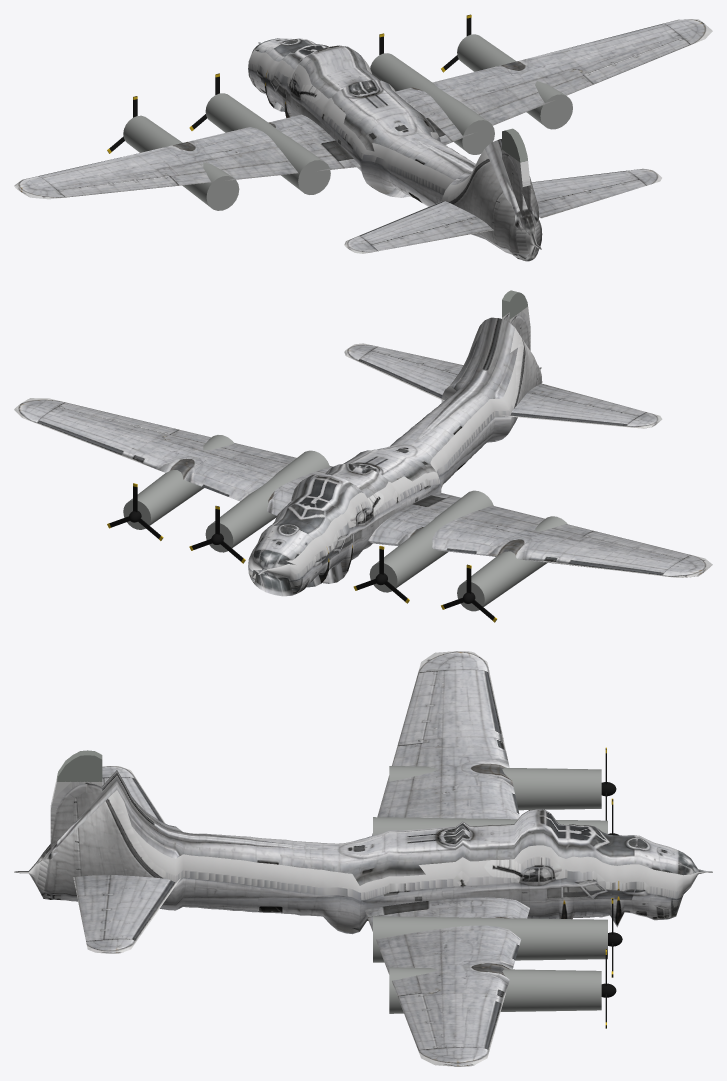
File: b17g_winding_fix.glb
3 views of the same model, one above another, from view 1: azimuth 30°, elevation 25°; view 2: azimuth 150°, elevation 25°; view 3: azimuth 270°, elevation 25° (orthographic). The views are drawn at different scales.
Visible parts, largest first — view 1: Fuselage, WingR, WingL, TailplaneL, _MeshInstance3D_1011, _MeshInstance3D_1016, TailplaneR, Nacelle, _MeshInstance3D_1006, Fin; view 2: Fuselage, WingL, WingR, TailplaneL, _MeshInstance3D_1016, _MeshInstance3D_1011, TailplaneR, Nacelle, _MeshInstance3D_1006, Fin; view 3: Fuselage, WingR, WingL, _MeshInstance3D_1016, TailplaneR, _MeshInstance3D_1006, Nacelle, Fin, _MeshInstance3D_1011, TailplaneL.
Part boxes in pixels (bbox=[...]): Fuselage: bbox=[248, 38, 542, 261]; WingR: bbox=[396, 19, 712, 144]; WingL: bbox=[14, 114, 360, 199]; TailplaneL: bbox=[344, 201, 493, 253]; _MeshInstance3D_1011: bbox=[205, 93, 330, 194]; _MeshInstance3D_1016: bbox=[370, 53, 494, 154]; TailplaneR: bbox=[531, 168, 661, 218]; Nacelle: bbox=[123, 115, 239, 210]; _MeshInstance3D_1006: bbox=[457, 34, 572, 129]; Fin: bbox=[502, 128, 530, 217]; Fuselage: bbox=[248, 317, 542, 596]; WingL: bbox=[368, 492, 712, 577]; WingR: bbox=[14, 398, 332, 515]; TailplaneL: bbox=[501, 383, 662, 428]; _MeshInstance3D_1016: bbox=[205, 450, 329, 552]; _MeshInstance3D_1011: bbox=[369, 490, 493, 592]; TailplaneR: bbox=[344, 343, 463, 400]; Nacelle: bbox=[457, 516, 567, 611]; _MeshInstance3D_1006: bbox=[123, 435, 234, 529]; Fin: bbox=[502, 290, 530, 350]; Fuselage: bbox=[14, 770, 712, 934]; WingR: bbox=[364, 897, 529, 1066]; WingL: bbox=[372, 651, 519, 835]; _MeshInstance3D_1016: bbox=[373, 916, 607, 962]; TailplaneR: bbox=[73, 875, 180, 953]; _MeshInstance3D_1006: bbox=[389, 967, 601, 1013]; Nacelle: bbox=[389, 766, 601, 810]; Fin: bbox=[50, 750, 102, 848]; _MeshInstance3D_1011: bbox=[373, 817, 607, 835]; TailplaneL: bbox=[102, 766, 165, 823].
Bounding box in the file's own units: 31.62 × 6.56 × 22.66.
Materials: 13 (1 with a texture image).
